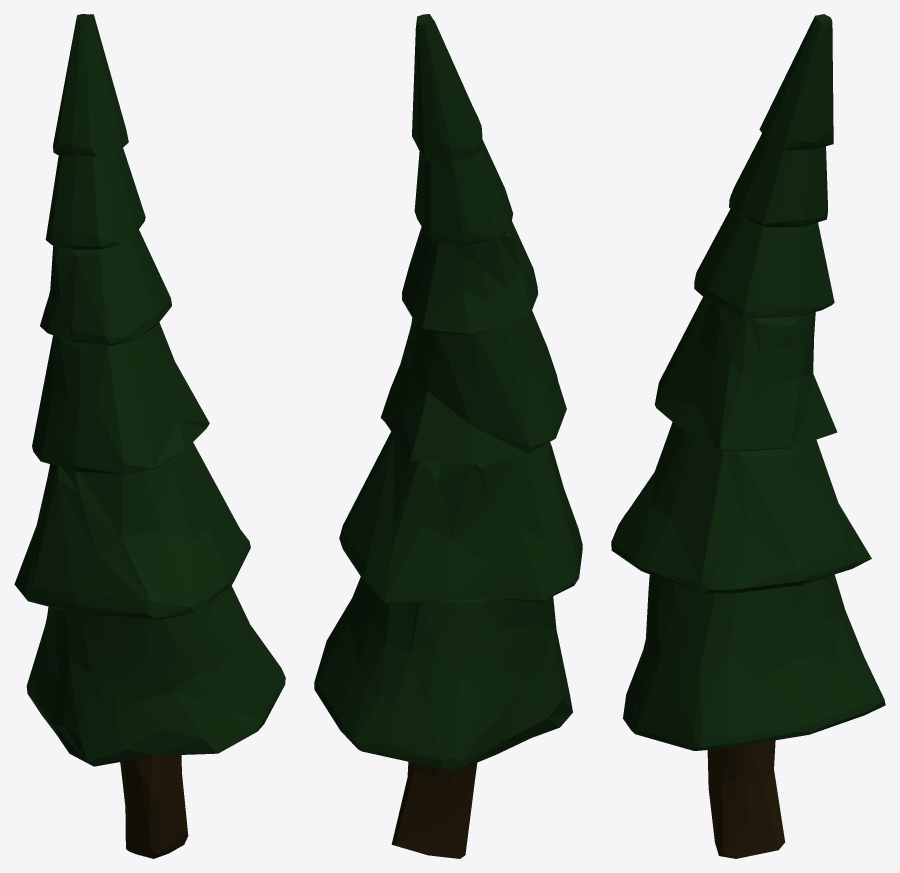
Rendered from Conifer_s_2.FBX.
The picture shows the model from 3 angles, left to right: view 1: azimuth 30°, elevation 25°; view 2: azimuth 150°, elevation 25°; view 3: azimuth 270°, elevation 25°; orthographic projection. The views are drawn at different scales.
Parts seen in each view (by area): view 1: Group57255; view 2: Group57255; view 3: Group57255.
Part boxes in pixels (x1,y1,x2,y2): Group57255: [14, 14, 285, 858]; Group57255: [314, 14, 582, 858]; Group57255: [611, 14, 885, 858].
Bounding box in the file's own units: 162 × 524 × 158.
